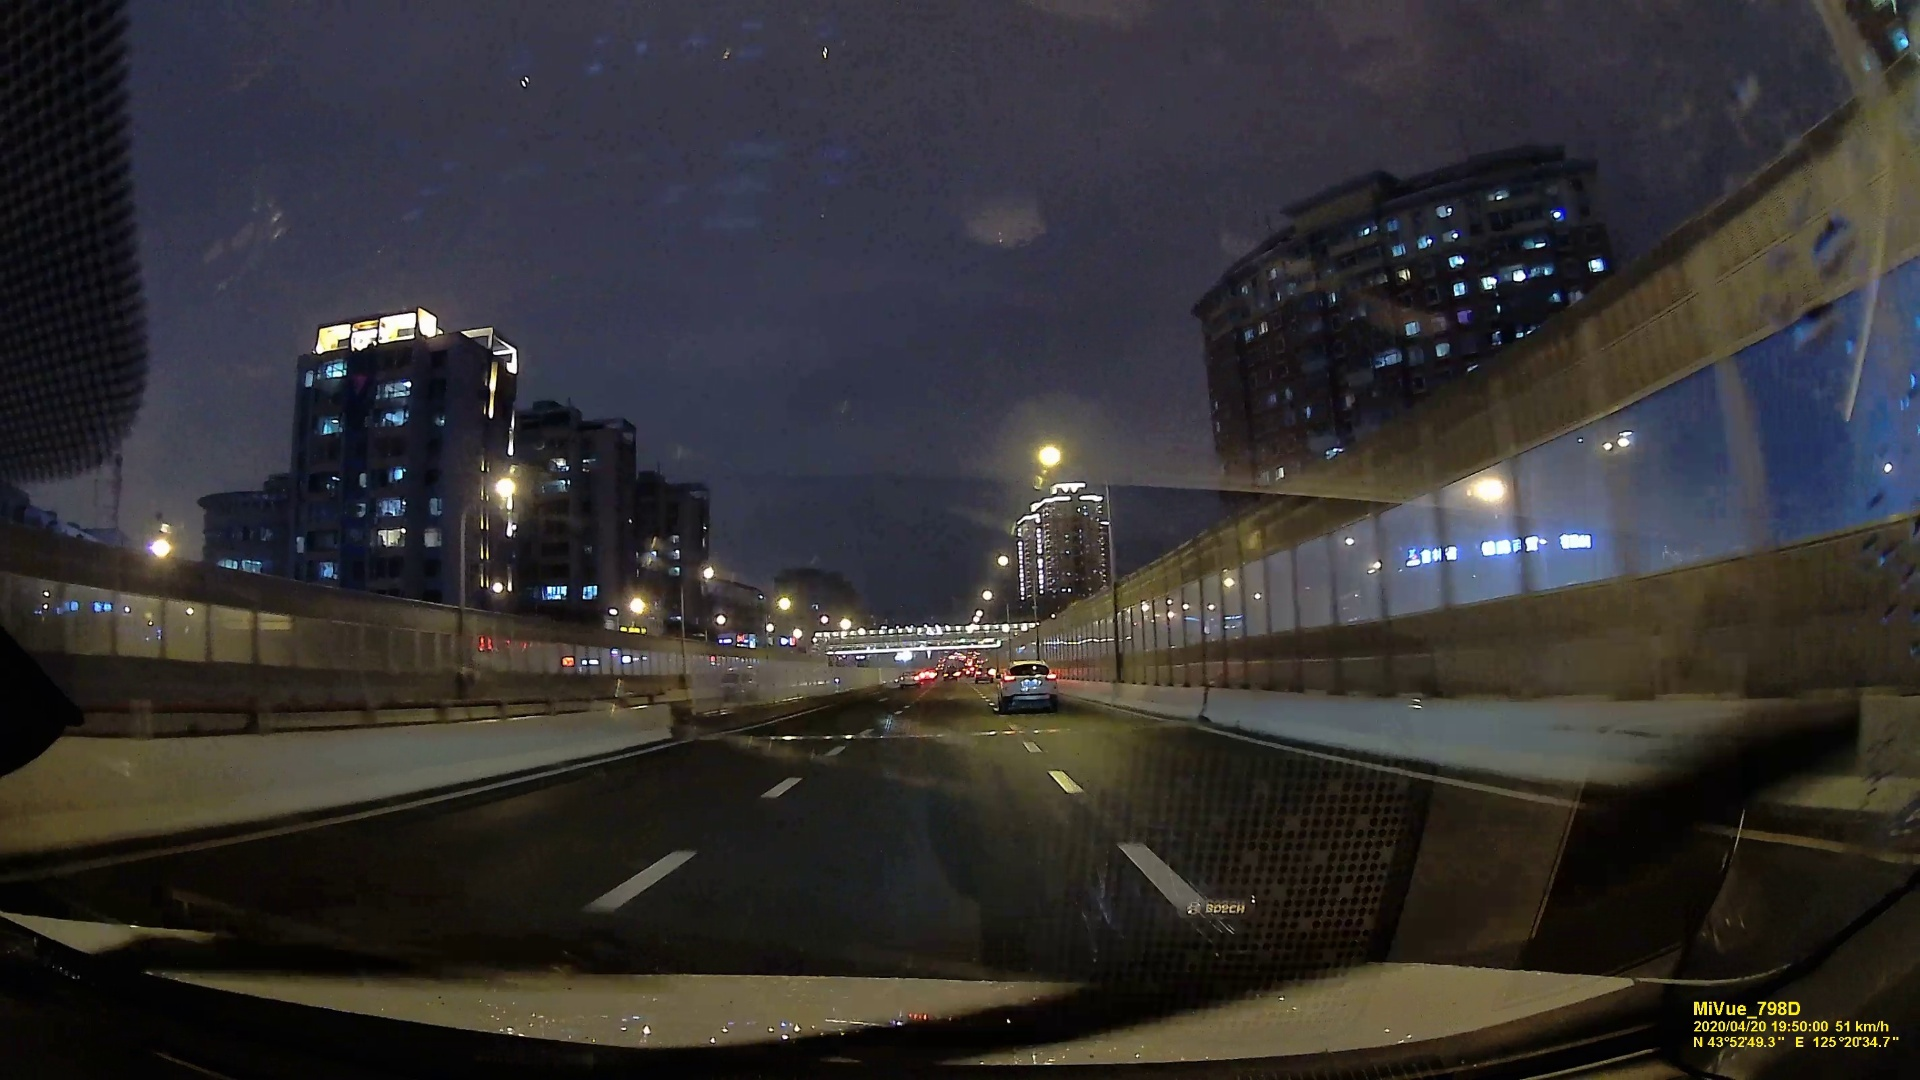vehicle: (997, 661, 1058, 713)
